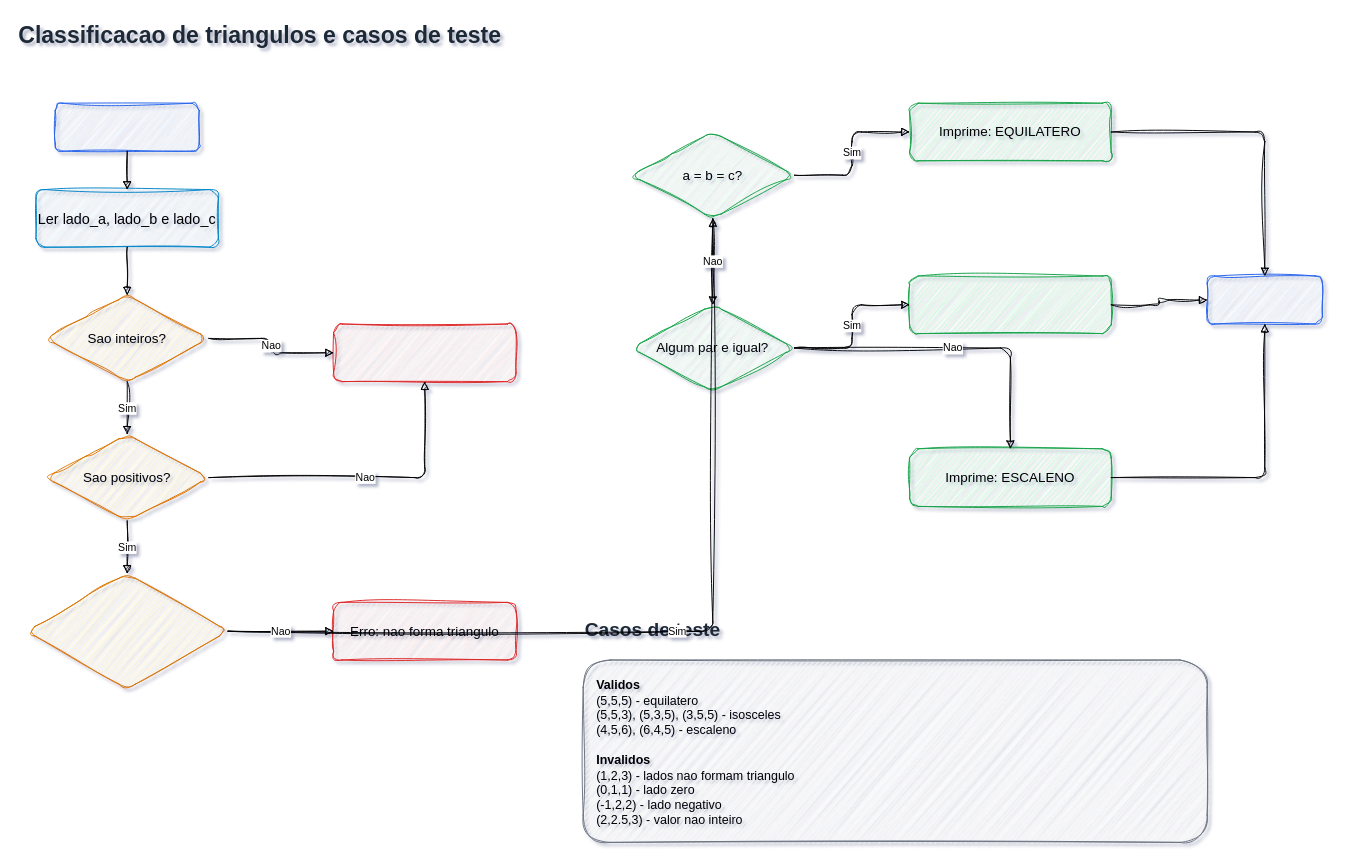
Some shapes in this 1345 by 865 pixel diagram are drawn without their labels. Here are the shapes that lost their labels. From the top down, the centre of each, then its label:
At point (126, 126): "Inicio".
At point (1010, 304): "Imprime: ISOSCELES".
At point (1264, 299): "Fim".
At point (424, 352): "Erro: entrada invalida".
At point (126, 631): "Formam um triangulo? a + b > c a + c > b b + c > a".
